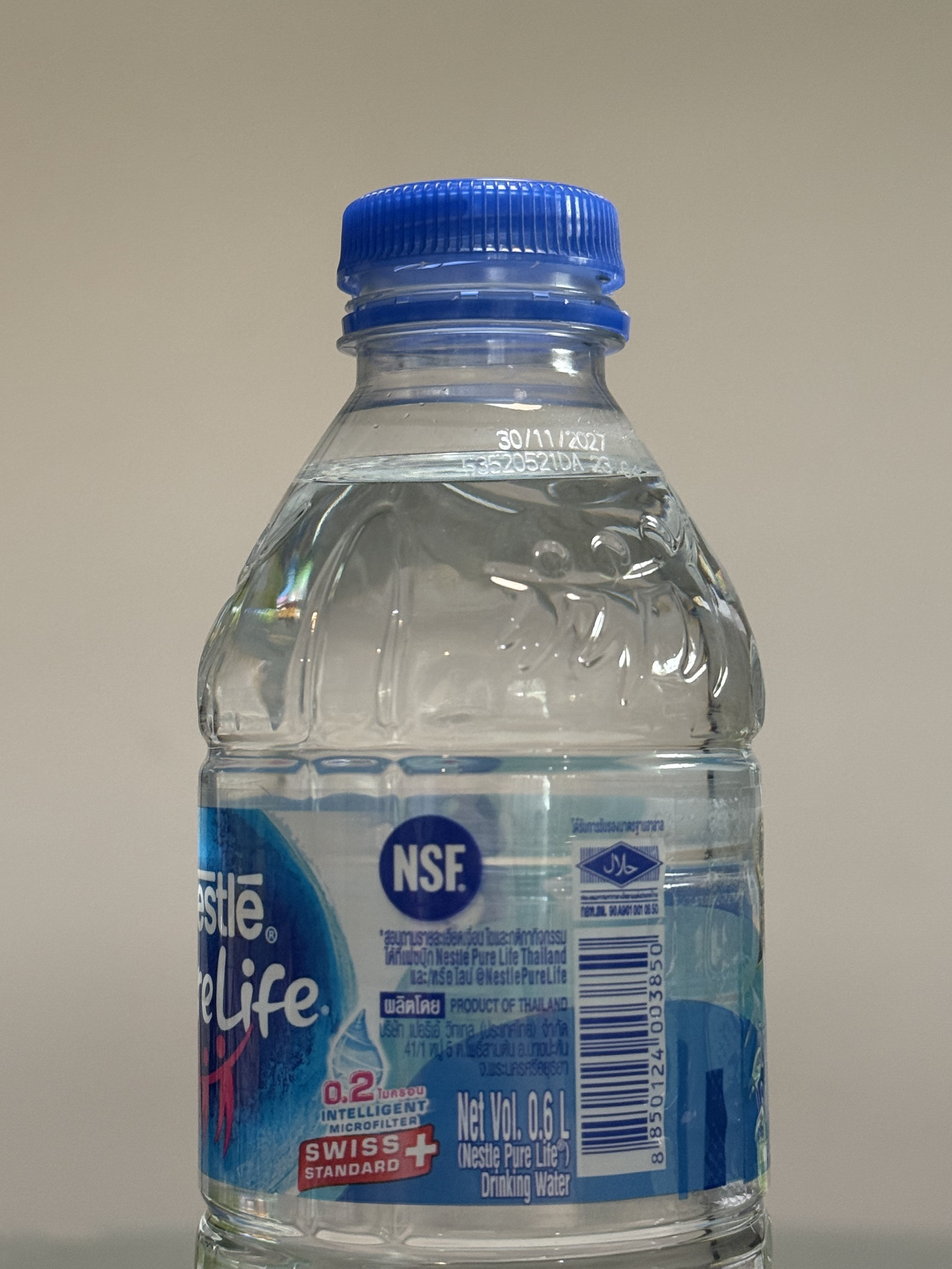half_cap: (326, 169, 637, 352)
